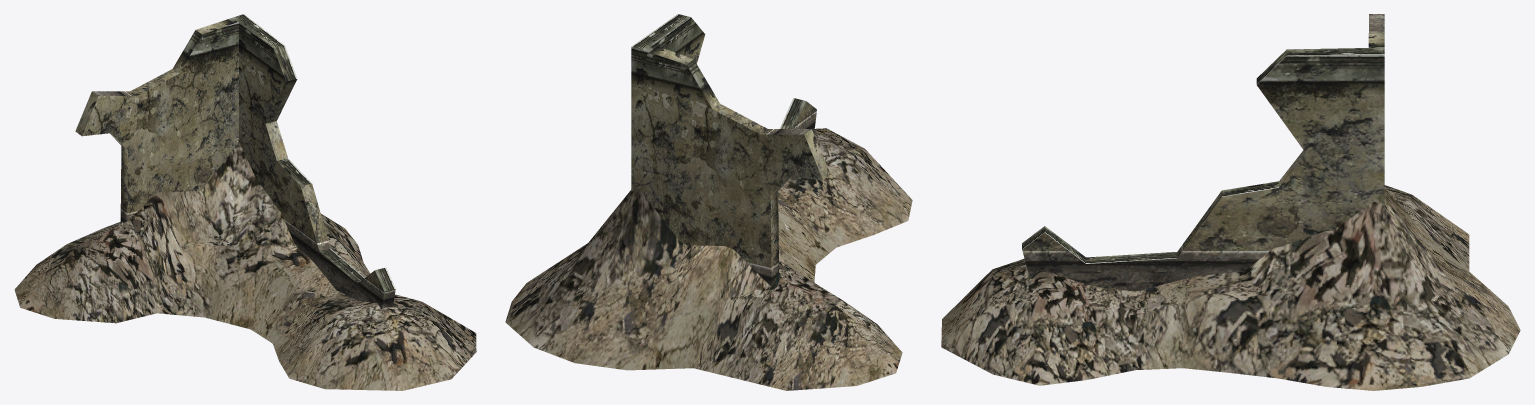
Rendered from Rbl_C2.glb.
3 views of the same model, side by side, from view 1: azimuth 30°, elevation 25°; view 2: azimuth 150°, elevation 25°; view 3: azimuth 270°, elevation 25° (orthographic). The views are drawn at different scales.
Visible parts, largest first — view 1: _Rbl_C2; view 2: _Rbl_C2; view 3: _Rbl_C2.
Boxes of the visible parts, x1,y1,x2,y2 form: _Rbl_C2: (14, 14, 476, 390); _Rbl_C2: (505, 14, 912, 390); _Rbl_C2: (941, 14, 1520, 390).
Size of the model in its own units: 7.14 by 4.93 by 9.24.
Materials: 2 (2 with a texture image).
